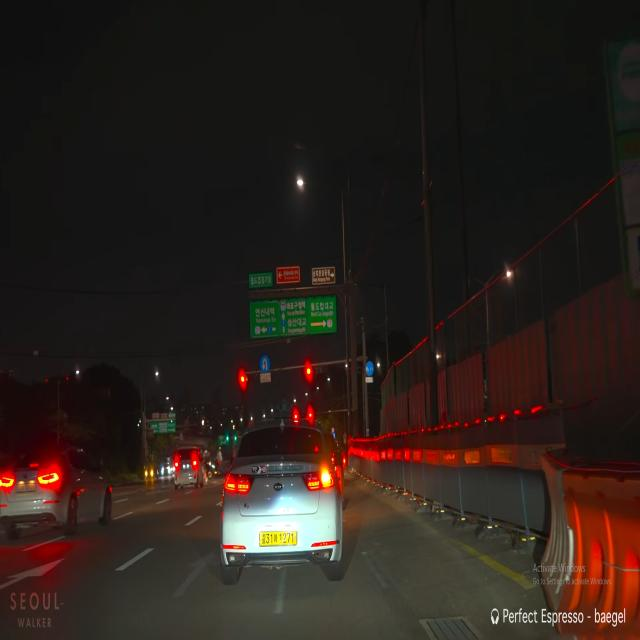headlights: (140, 464, 156, 482)
